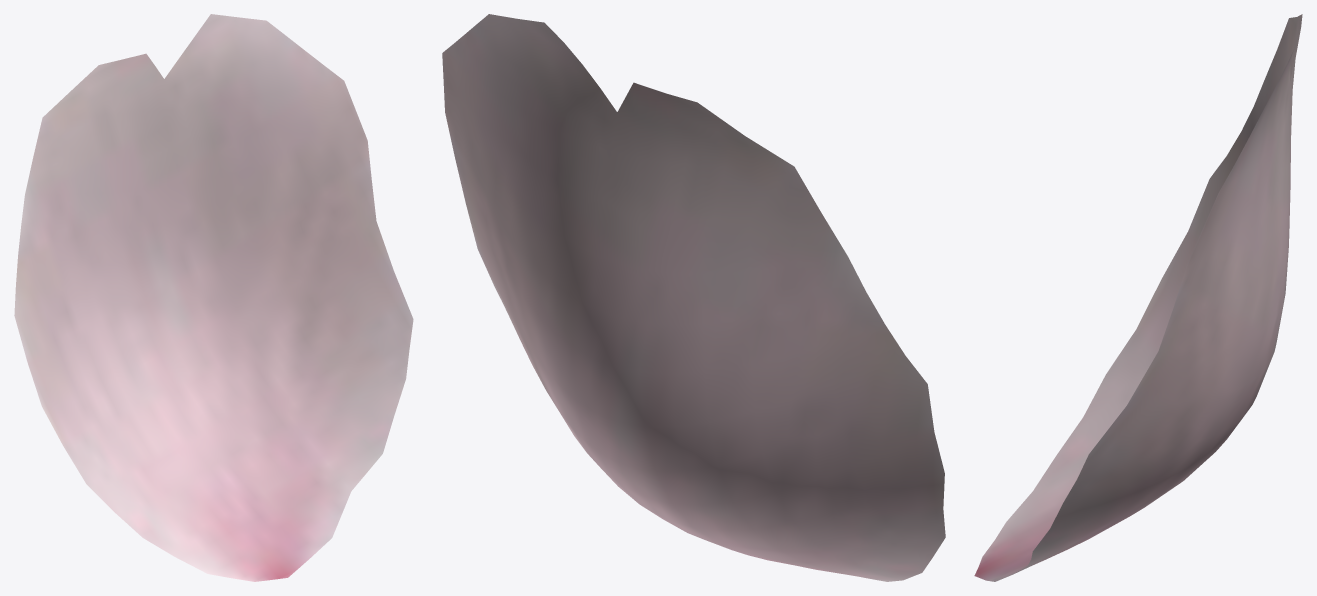
The model's file is petal.glb.
3 renders of one model, left to right at view 1: azimuth 30°, elevation 25°; view 2: azimuth 150°, elevation 25°; view 3: azimuth 270°, elevation 25°, orthographic. The views are drawn at different scales.
Visible parts, largest first — view 1: petal; view 2: petal; view 3: petal.
Boxes of the visible parts, x1,y1,x2,y2 form: petal: (14, 14, 413, 581); petal: (442, 14, 945, 581); petal: (974, 14, 1302, 581).
Bounding box in the file's own units: 6.27 × 7.79 × 4.13.
Materials: 1 (1 with a texture image).
